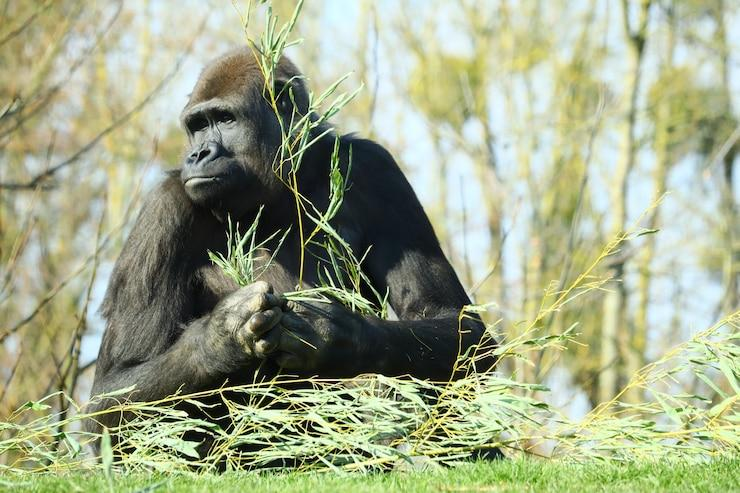gorille_Autres: (86, 19, 530, 451)
